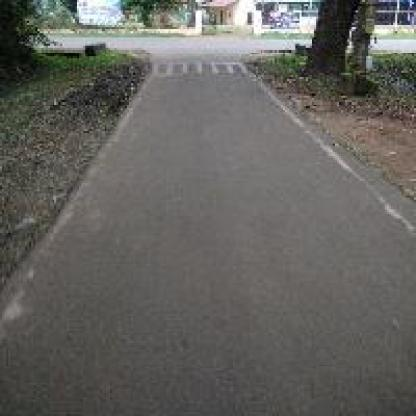Speed Bump: (148, 56, 250, 79)
